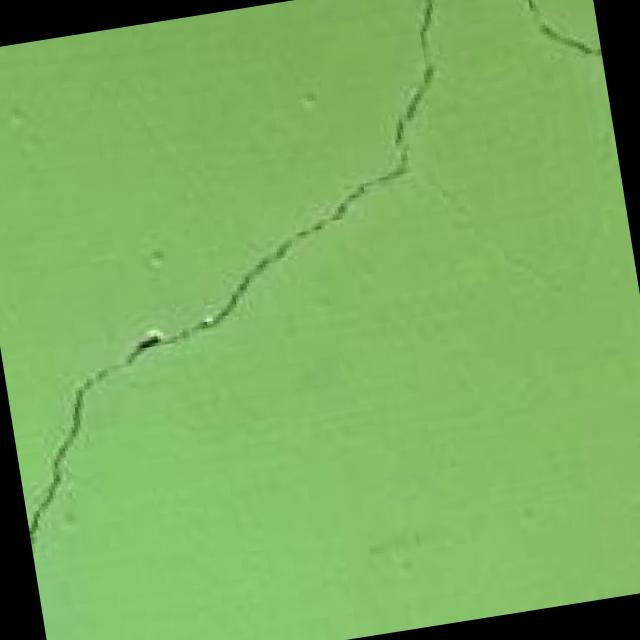crack: (0, 12, 518, 562)
